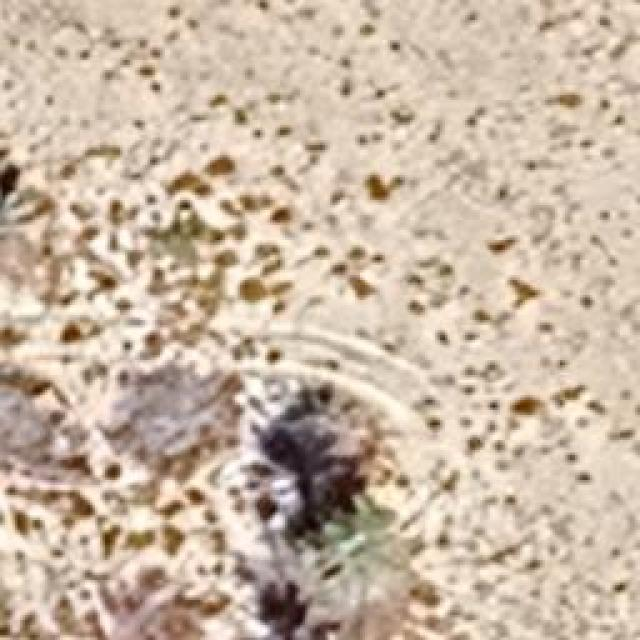PalmTree: (286, 504, 392, 598)
